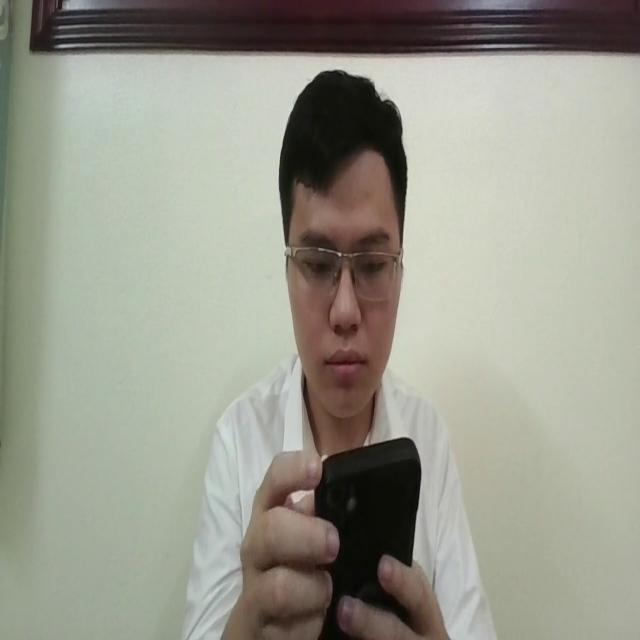phone: (311, 437, 425, 632)
student: (182, 73, 498, 640)
